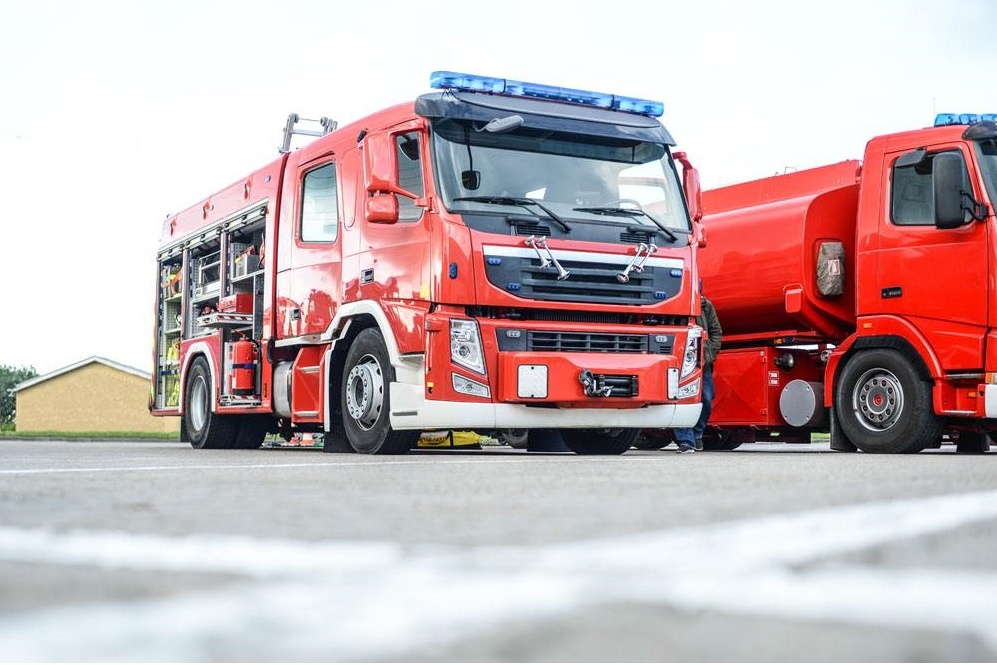fire engine: (127, 56, 710, 453)
